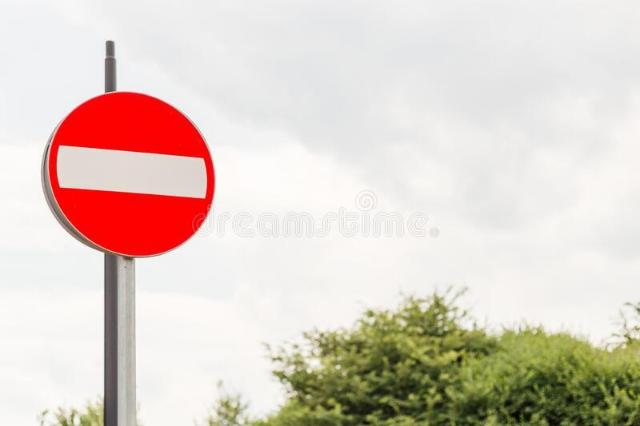B2: (40, 89, 216, 259)
